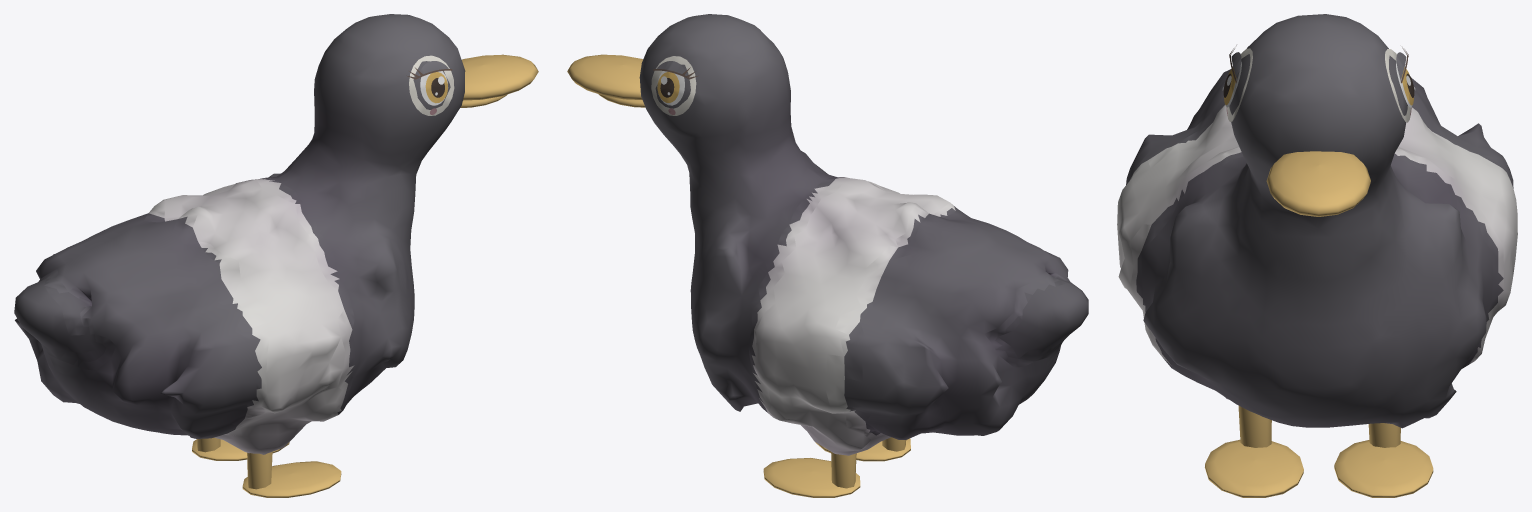
File: belted_duck.glb
The picture shows the model from 3 angles, left to right: view 1: azimuth 30°, elevation 25°; view 2: azimuth 150°, elevation 25°; view 3: azimuth 270°, elevation 25°; orthographic projection. The views are drawn at different scales.
Parts seen in each view (by area): view 1: belted_duck; view 2: belted_duck; view 3: belted_duck.
Part boxes in pixels (x1,y1,x2,y2): belted_duck: (14,14,538,497); belted_duck: (567,14,1088,497); belted_duck: (1117,14,1517,497).
Bounding box in the file's own units: 0.5596 × 0.4329 × 0.2967.
